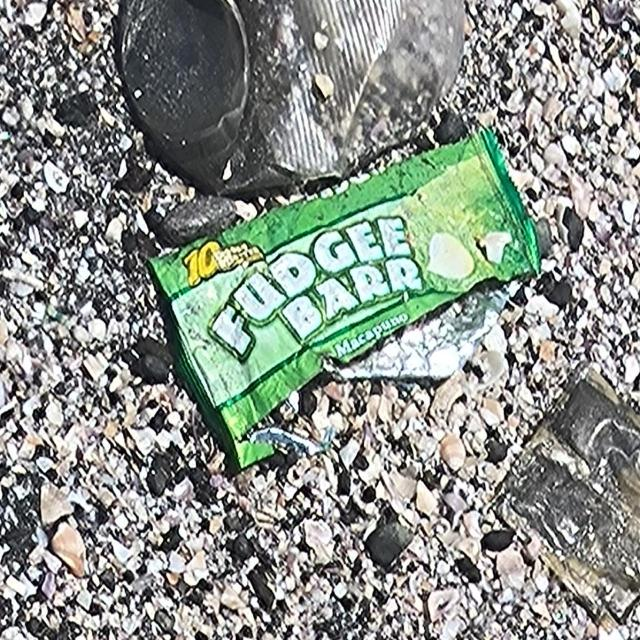litter: (143, 125, 542, 473), (114, 0, 468, 198), (496, 375, 636, 640)
